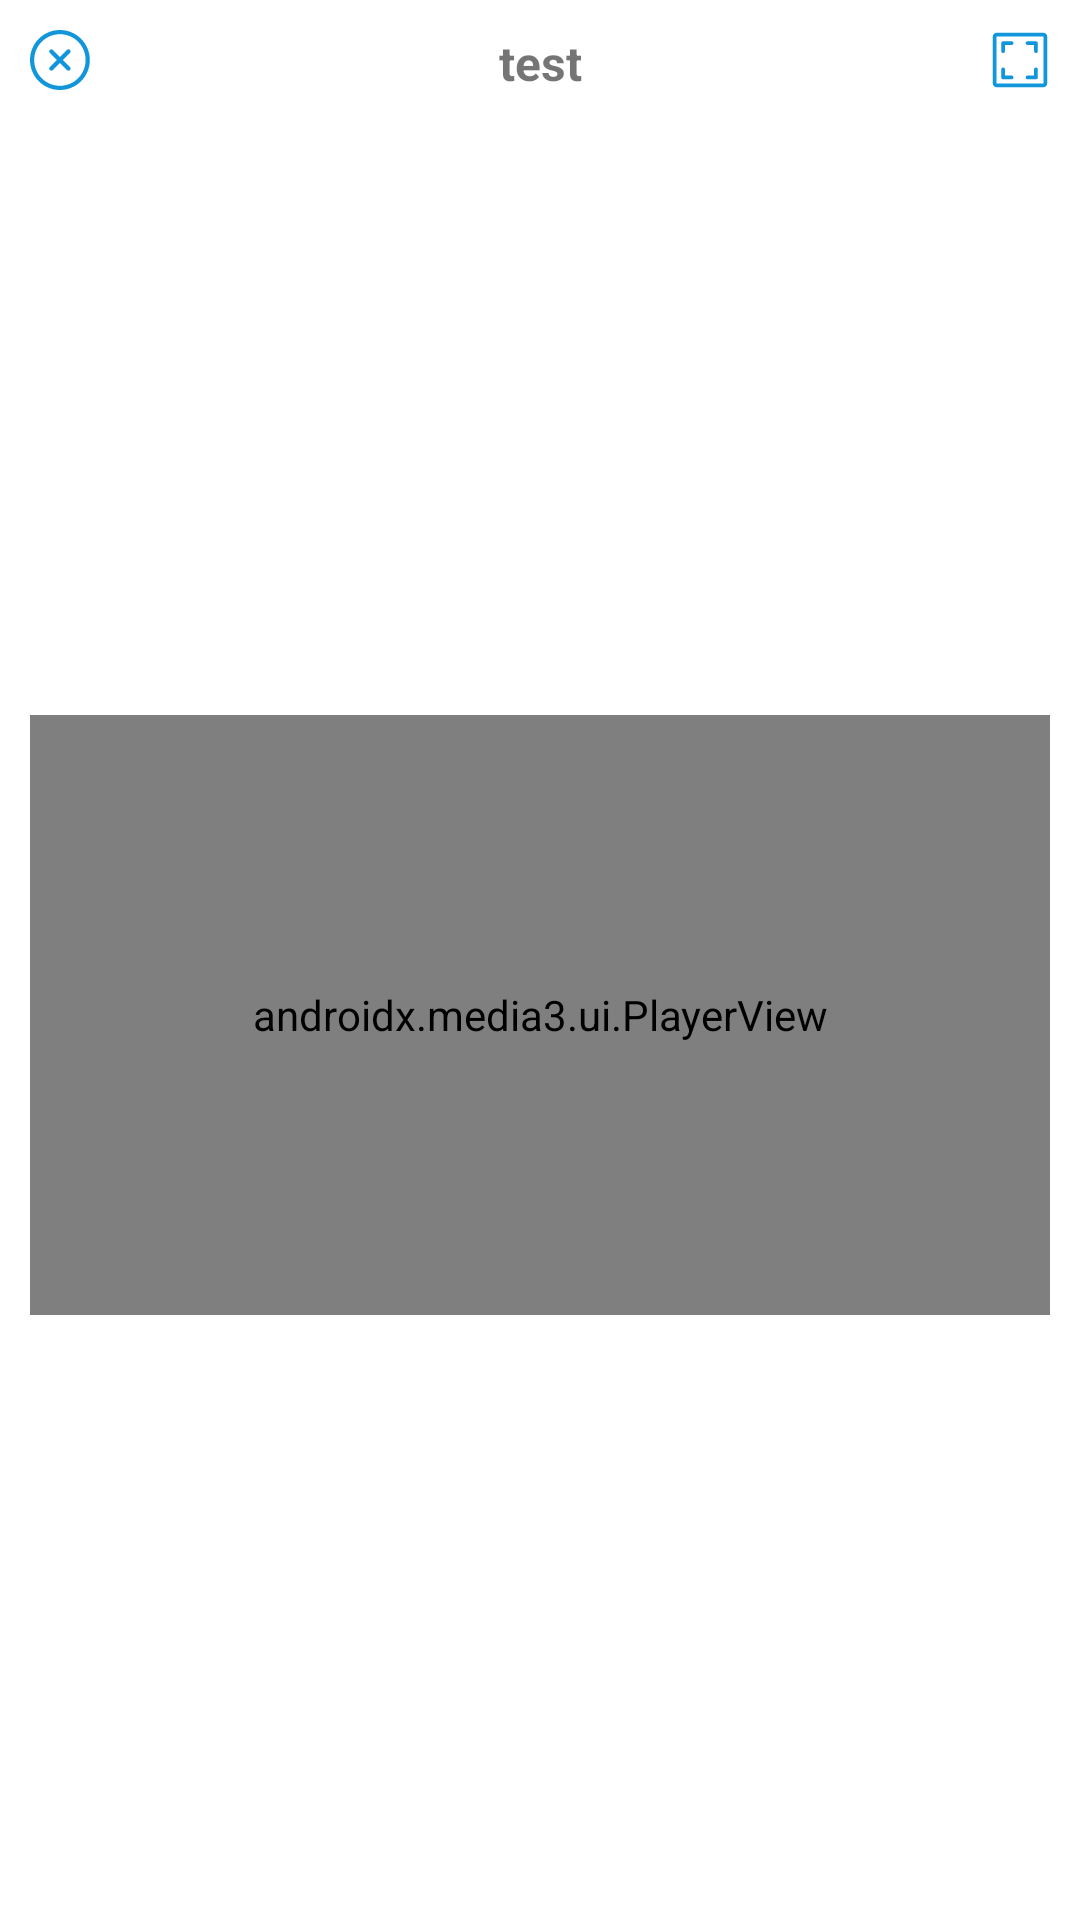

Named icons in this screenshot (1080*1920) and their bounding boxes, bbox=[x1, y1, x2, y2]:
close: bbox=[30, 30, 90, 90]
full screen: bbox=[992, 32, 1048, 88]
